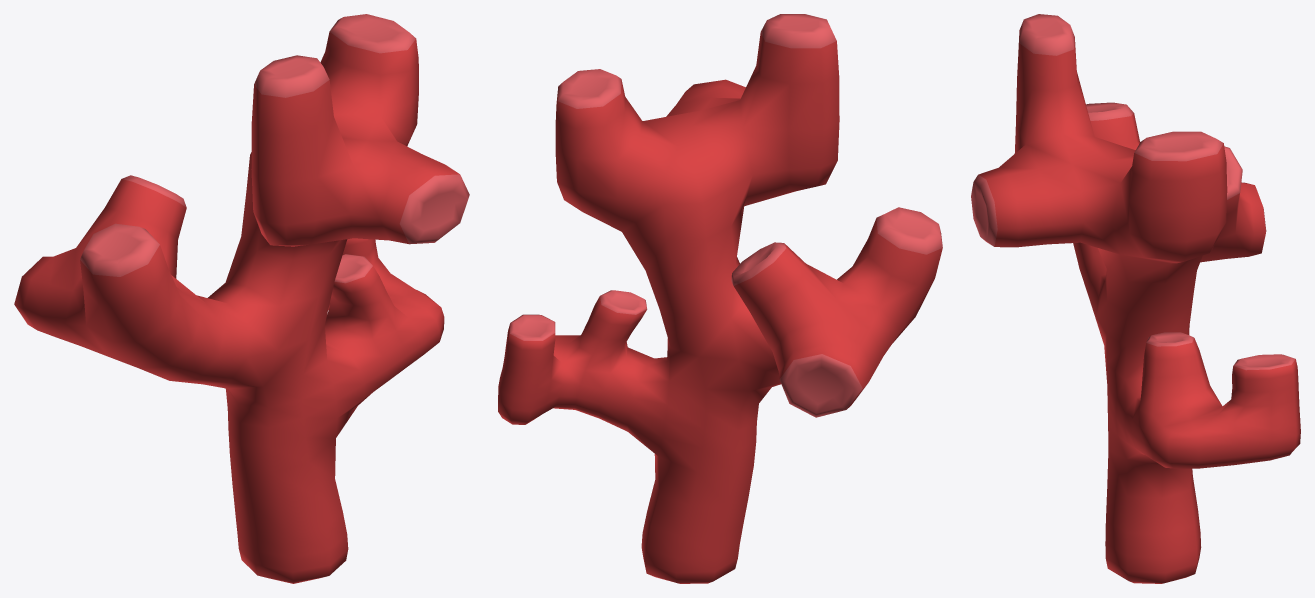
File: terumbu karang merah.fbx
3 renders of one model, left to right at view 1: azimuth 30°, elevation 25°; view 2: azimuth 150°, elevation 25°; view 3: azimuth 270°, elevation 25°, orthographic. The views are drawn at different scales.
Visible parts, largest first — view 1: Coral 5; view 2: Coral 5; view 3: Coral 5.
Boxes of the visible parts, left/top/right/bottom form: Coral 5: left=14, top=14, right=469, bottom=583; Coral 5: left=498, top=14, right=942, bottom=583; Coral 5: left=971, top=14, right=1300, bottom=583.
Bounding box in the file's own units: 345 × 466 × 269.
